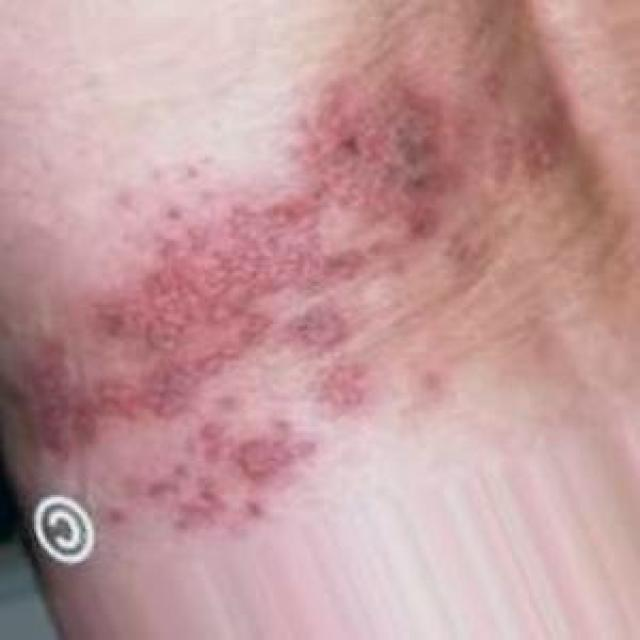Shingles: (46, 112, 403, 529)
